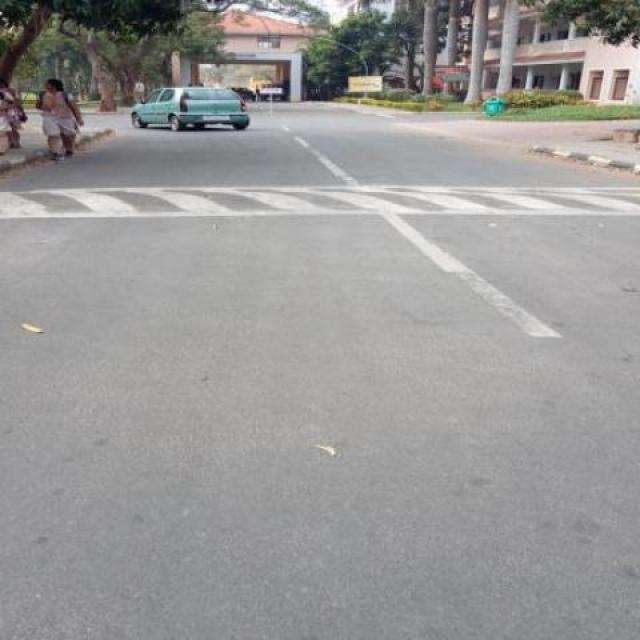Speed Bump: (0, 183, 639, 222)
